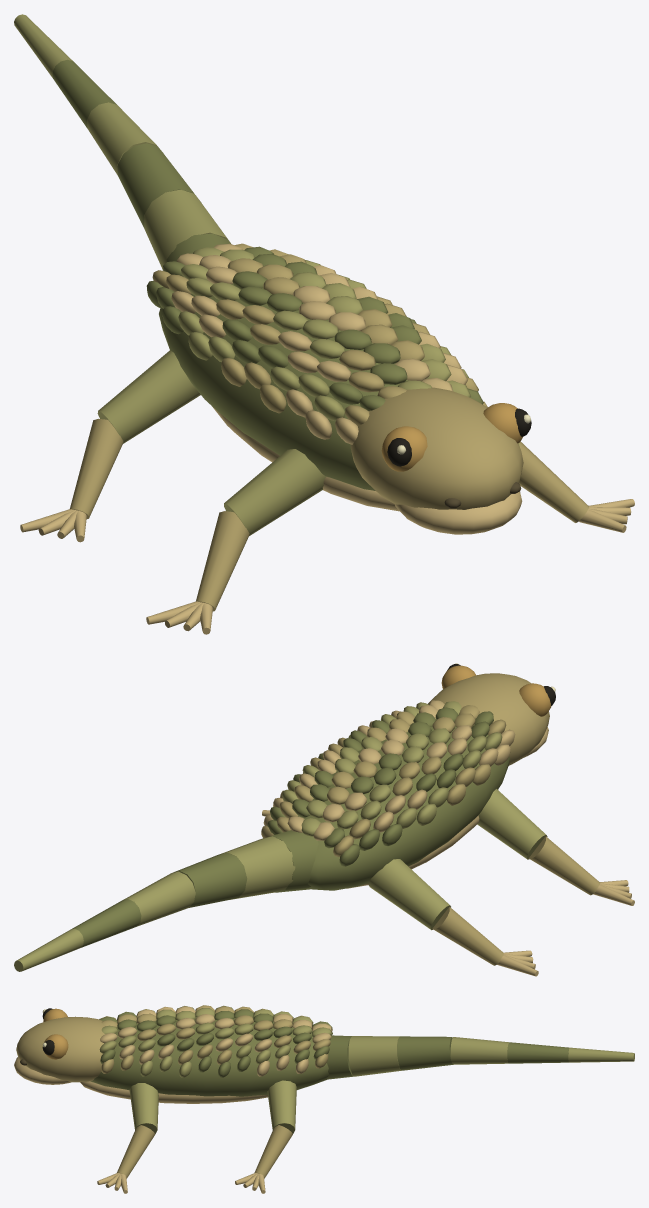
Rendered from scetis-soparla.glb.
3 views of the same model, one above another, from view 1: azimuth 30°, elevation 25°; view 2: azimuth 150°, elevation 25°; view 3: azimuth 270°, elevation 25° (orthographic). The views are drawn at different scales.
Parts seen in each view (by area): view 1: body, head, tail-joint (×5), lower-leg (×3), upper-leg (×2); view 2: body, tail-joint (×5), head, upper-leg (×2), lower-leg (×2), tail-base; view 3: body, tail-joint (×5), head, lower-leg (×2), upper-leg (×2), tail-base.
Boxes of the visible parts, x1=… form: body: x1=146, y1=243, x2=487, y2=511; head: x1=350, y1=387, x2=531, y2=534; tail-joint (×5): x1=14, y1=14, x2=230, y2=270; lower-leg (×3): x1=20, y1=418, x2=634, y2=634; upper-leg (×2): x1=97, y1=350, x2=325, y2=535; body: x1=261, y1=700, x2=515, y2=890; tail-joint (×5): x1=14, y1=836, x2=295, y2=971; head: x1=428, y1=663, x2=555, y2=765; upper-leg (×2): x1=368, y1=789, x2=547, y2=930; lower-leg (×2): x1=432, y1=836, x2=634, y2=976; tail-base: x1=269, y1=830, x2=318, y2=892; body: x1=80, y1=1005, x2=332, y2=1103; tail-joint (×5): x1=348, y1=1036, x2=634, y2=1076; head: x1=14, y1=1008, x2=106, y2=1084; lower-leg (×2): x1=97, y1=1125, x2=292, y2=1193; upper-leg (×2): x1=129, y1=1080, x2=296, y2=1133; tail-base: x1=326, y1=1035, x2=354, y2=1079.
Size of the model in its own units: 0.567 by 0.2334 by 1.15.
